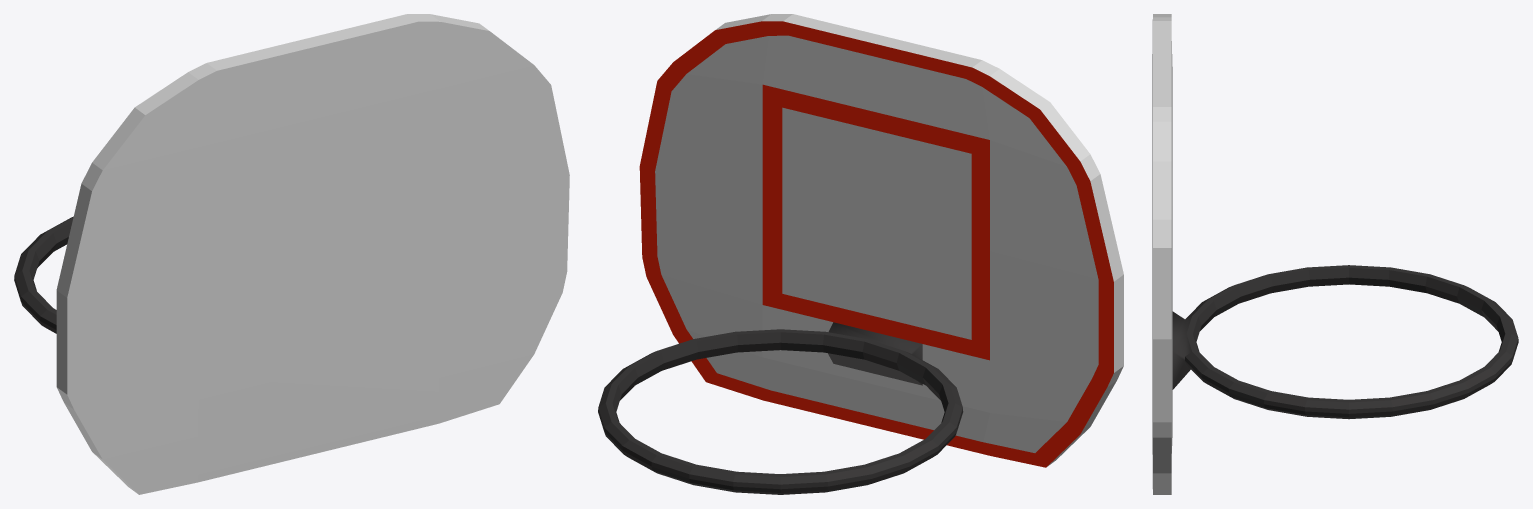
The model's file is BasketBallHoop2.fbx.
3 renders of one model, left to right at view 1: azimuth 30°, elevation 25°; view 2: azimuth 150°, elevation 25°; view 3: azimuth 270°, elevation 25°, orthographic. The views are drawn at different scales.
Visible parts, largest first — view 1: Cube; view 2: Cube; view 3: Cube.
Boxes of the visible parts, x1,y1,x2,y2 form: Cube: [14, 14, 569, 494]; Cube: [598, 14, 1123, 494]; Cube: [1152, 14, 1518, 494].
Bounding box in the file's own units: 49.99 × 38.68 × 35.98.
